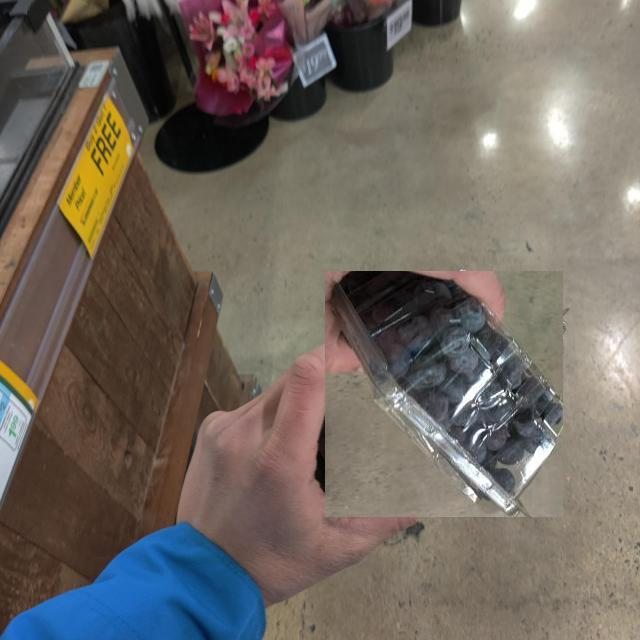Blueberries: (325, 271, 563, 517)
